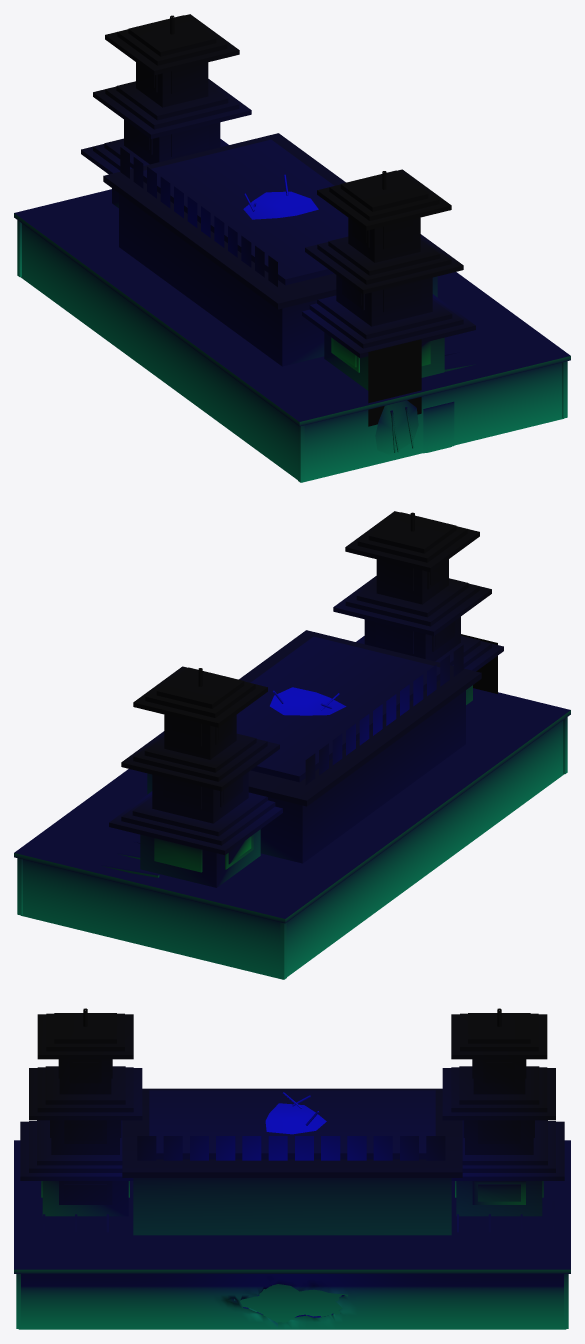
Rendered from l_guardhouse_damaged.glb.
The picture shows the model from 3 angles, top to bottom: view 1: azimuth 30°, elevation 25°; view 2: azimuth 150°, elevation 25°; view 3: azimuth 270°, elevation 25°; orthographic projection. The views are drawn at different scales.
Visible parts, largest first — view 1: lod0; view 2: lod0; view 3: lod0.
Boxes of the visible parts, x1,y1,x2,y2 form: lod0: (14, 14, 570, 482); lod0: (14, 511, 570, 979); lod0: (14, 1008, 570, 1329).
Size of what is drawn, in the model's own units: 19.2 by 17.4 by 35.
